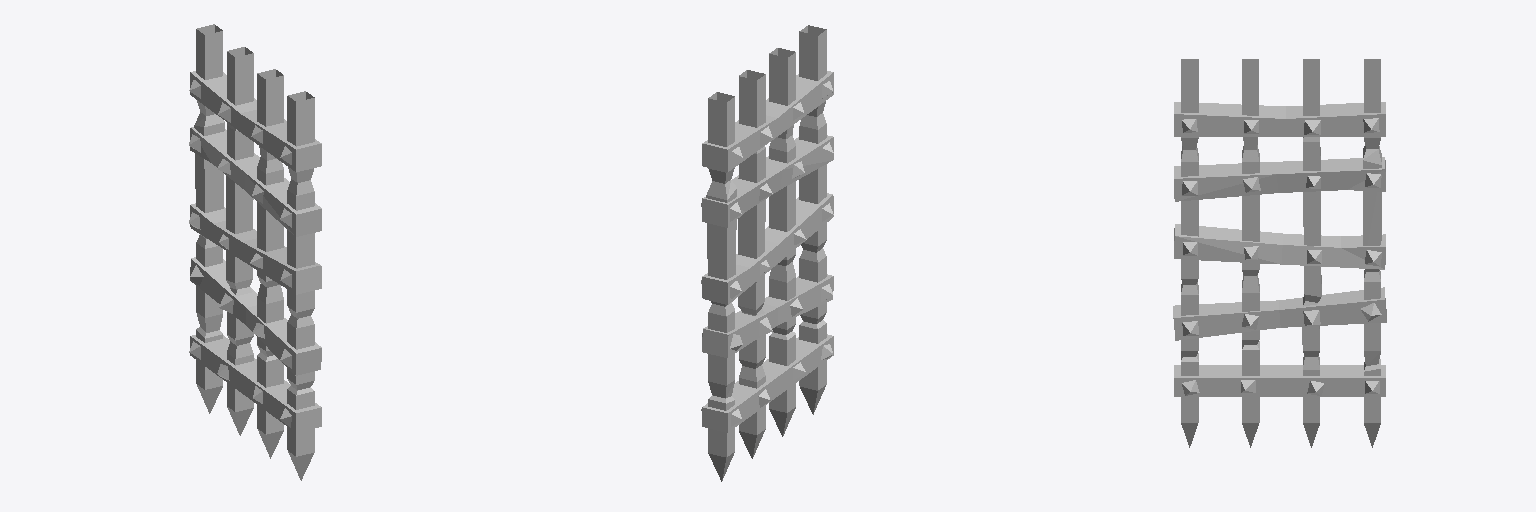
Rendered from gate_medium.obj.
The picture shows the model from 3 angles: view 1: azimuth 30°, elevation 25°; view 2: azimuth 150°, elevation 25°; view 3: azimuth 270°, elevation 25°; orthographic projection.
Parts seen in each view (by area): view 1: gate_medium; view 2: gate_medium; view 3: gate_medium.
Part boxes in pixels (x1,y1,x2,y2): gate_medium: (189, 24, 321, 480); gate_medium: (701, 25, 833, 481); gate_medium: (1173, 59, 1386, 447).
Size of the model in its own units: 86.31 by 700 by 351.